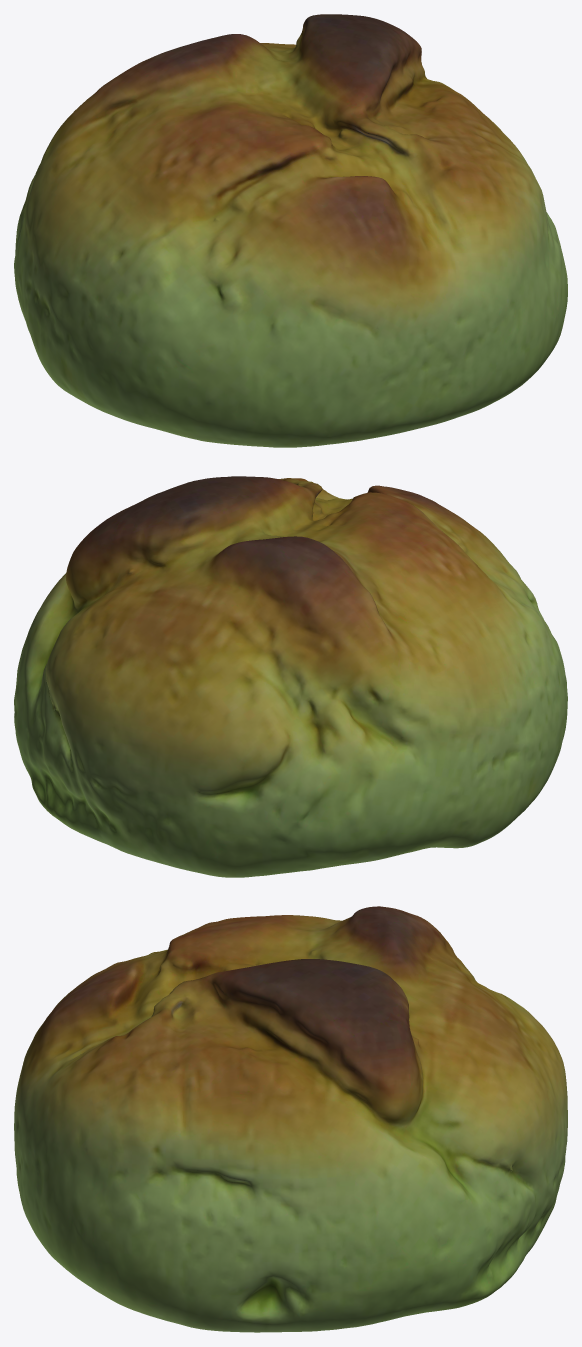
File: 40050ab00220_green_bread__3d_ass.fbx
3 renders of one model, top to bottom at view 1: azimuth 30°, elevation 25°; view 2: azimuth 150°, elevation 25°; view 3: azimuth 270°, elevation 25°, orthographic. The views are drawn at different scales.
Visible parts, largest first — view 1: high_poly; view 2: high_poly; view 3: high_poly.
Boxes of the visible parts, x1,y1,x2,y2 form: high_poly: (14,14,567,447); high_poly: (14,476,567,877); high_poly: (14,906,567,1332).
Size of the model in its own units: 99.9 by 59.45 by 100.
